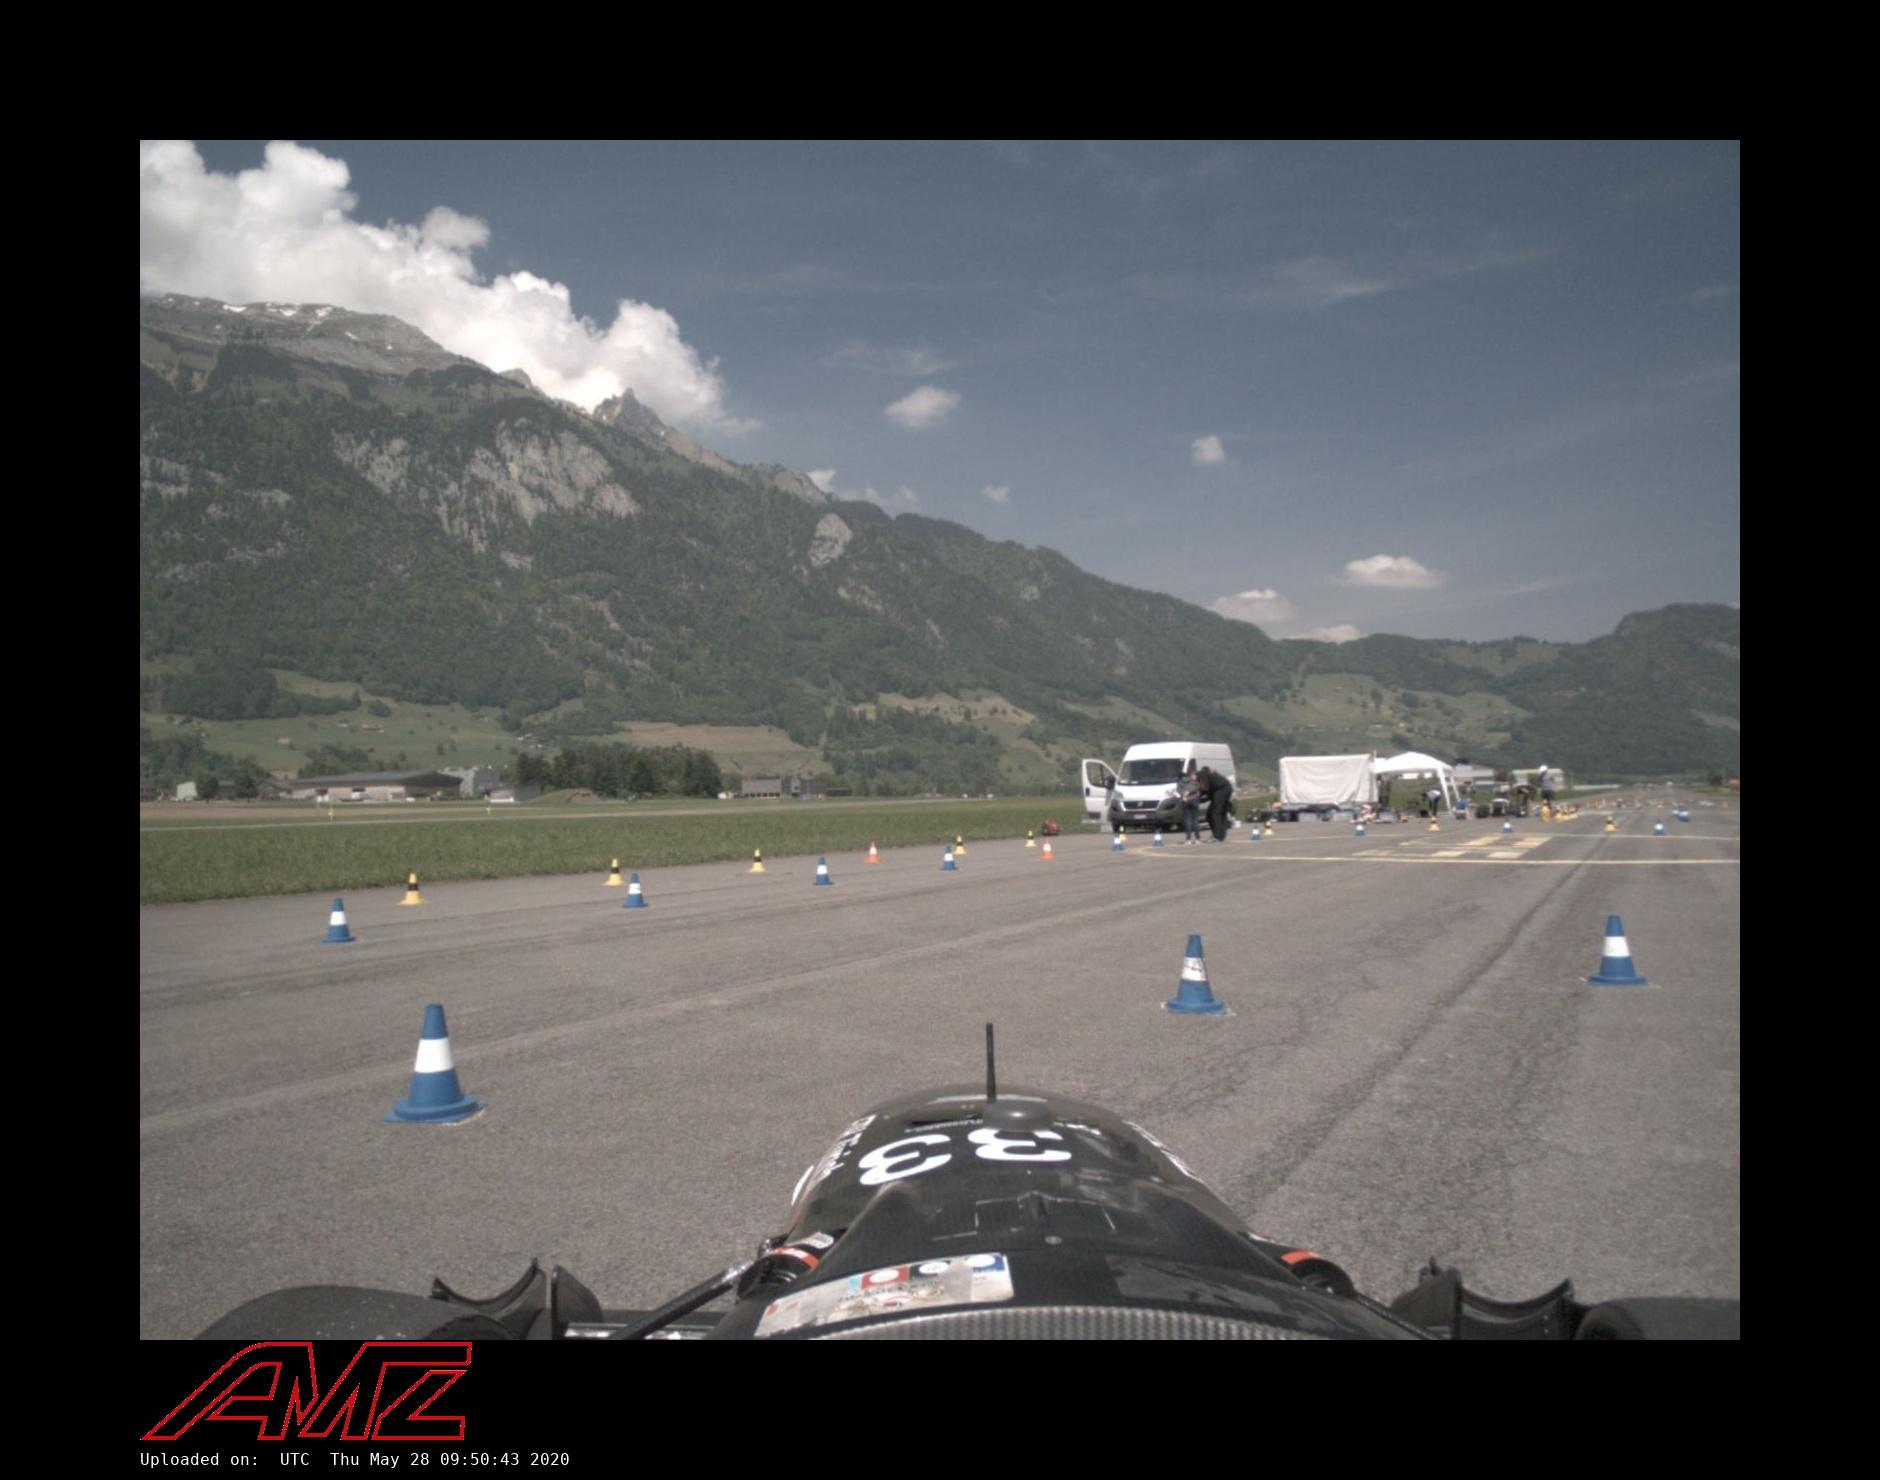blue_cone: (380, 1004, 488, 1124), (1164, 934, 1228, 1015), (1589, 915, 1648, 987), (322, 899, 356, 944), (623, 873, 649, 908), (812, 857, 835, 886), (940, 844, 958, 871), (1109, 832, 1125, 851), (1151, 828, 1164, 847), (1653, 818, 1666, 836), (1354, 819, 1366, 838), (1502, 816, 1514, 835), (1251, 825, 1262, 841), (1680, 809, 1691, 822), (1677, 806, 1686, 819), (1672, 806, 1679, 816)
orange_cone: (864, 841, 882, 864), (1039, 838, 1054, 861)
yellow_cone: (398, 873, 427, 906), (603, 859, 627, 886), (749, 850, 765, 873), (952, 835, 967, 854), (1025, 830, 1036, 848), (1428, 816, 1441, 832), (1604, 816, 1616, 832), (1117, 825, 1128, 841), (1264, 821, 1274, 835), (1569, 806, 1576, 819), (1541, 800, 1550, 810), (1563, 807, 1570, 819), (1555, 812, 1563, 821)
